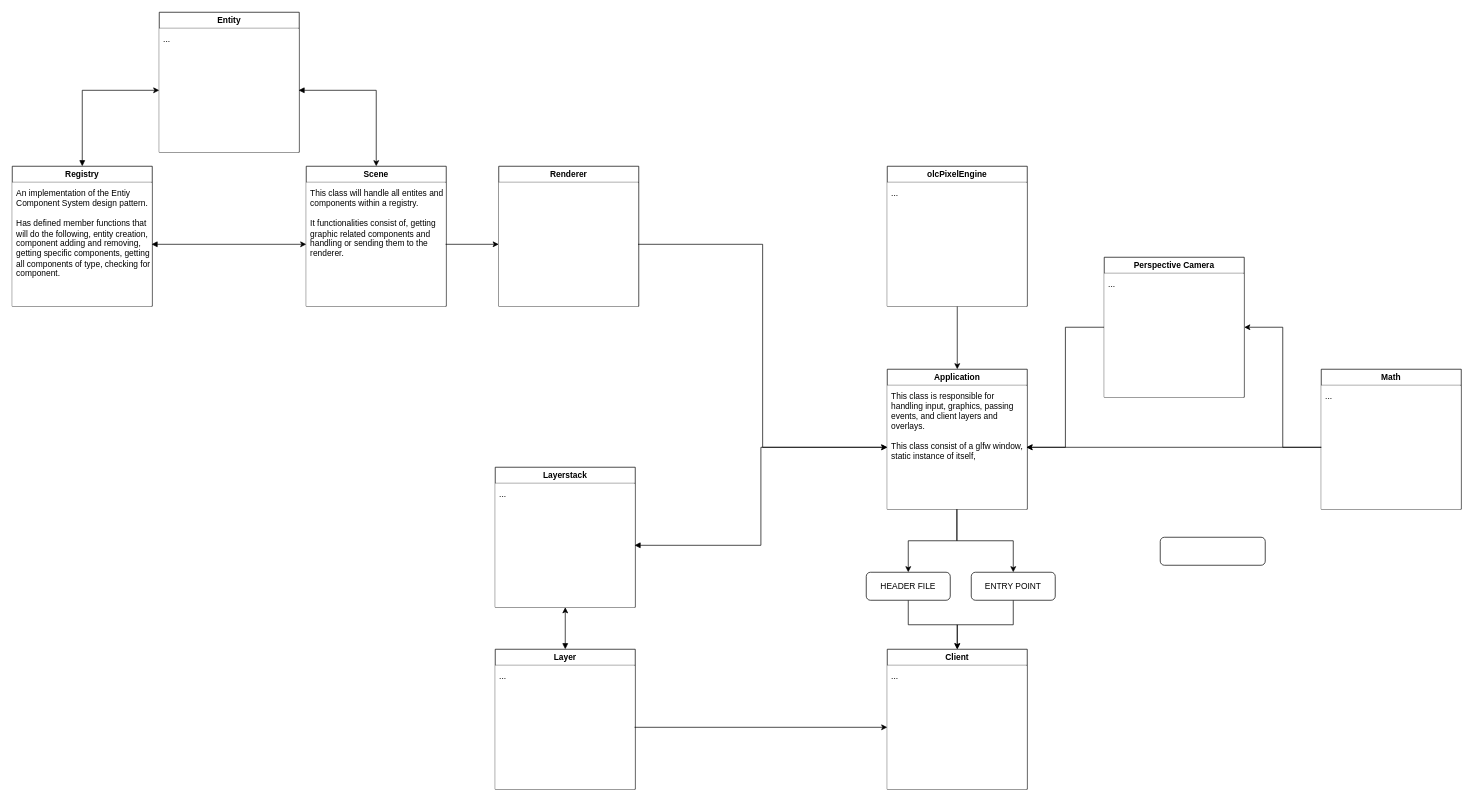
Image size: 1474x802. Some labels were removed from this diagram. Each missing label, with the centre of its shape:
A basic renderer that will draw things onto the screen: [568,244]
BASE HEADER FILE: [1212,551]
